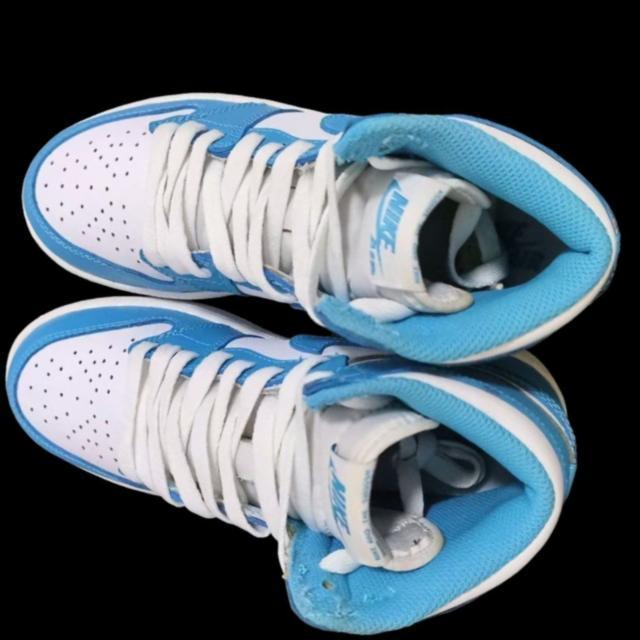nike original jordan 1: (0, 43, 640, 640), (0, 0, 640, 556)
